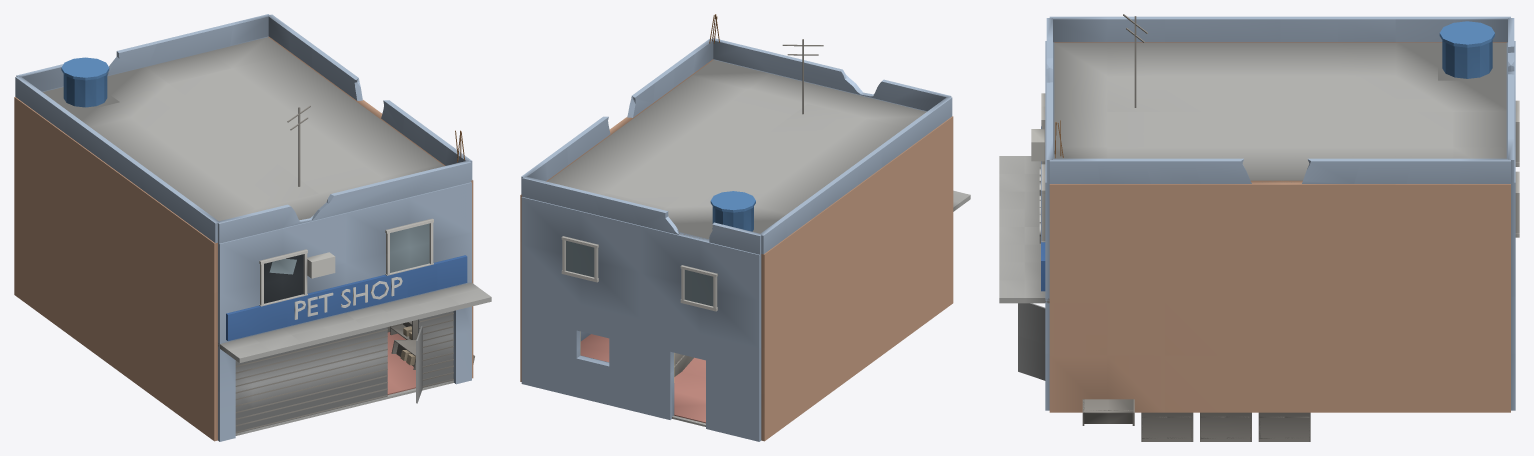
The model's file is sobrado_15.glb.
The picture shows the model from 3 angles, left to right: view 1: azimuth 30°, elevation 25°; view 2: azimuth 150°, elevation 25°; view 3: azimuth 270°, elevation 25°; orthographic projection. The views are drawn at different scales.
Visible parts, largest first — view 1: longe, ext, detalhe, dentro; view 2: ext, longe, detalhe, dentro; view 3: ext, longe, dentro, detalhe.
Part boxes in pixels (bbox=[...]): longe: bbox=[15, 14, 491, 433]; ext: bbox=[14, 36, 473, 441]; detalhe: bbox=[51, 57, 464, 319]; dentro: bbox=[235, 319, 474, 435]; ext: bbox=[520, 59, 953, 441]; longe: bbox=[521, 38, 970, 254]; detalhe: bbox=[561, 14, 823, 311]; dentro: bbox=[580, 331, 705, 426]; ext: bbox=[1045, 41, 1515, 412]; longe: bbox=[999, 16, 1514, 380]; dentro: bbox=[1082, 399, 1310, 441]; detalhe: bbox=[1031, 14, 1519, 243].
Size of what is drawn, in the model's own units: 8.73 by 9.29 by 12.4.
